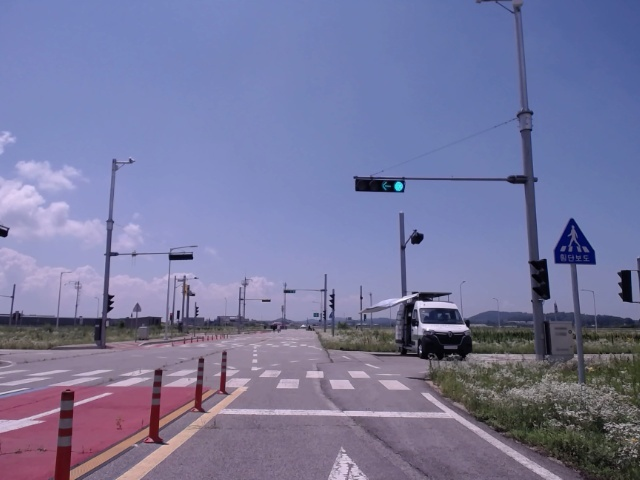all_green_4: (357, 178, 409, 193)
